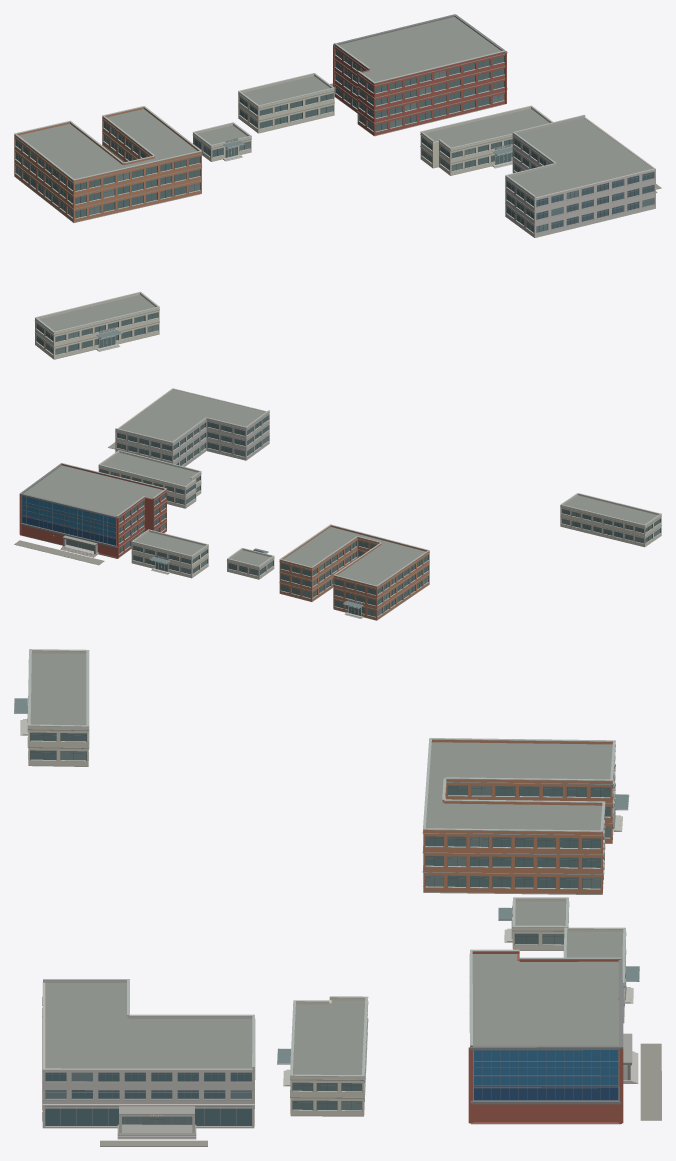
Rendered from south_service_buildings.glb.
3 renders of one model, top to bottom at view 1: azimuth 30°, elevation 25°; view 2: azimuth 150°, elevation 25°; view 3: azimuth 270°, elevation 25°, orthographic. The views are drawn at different scales.
Parts seen in each view (by area): view 1: south_service_buildings_FacultyRoof, south_service_buildings_WindowGlass, south_service_buildings_ServicePlaster, south_service_buildings_SolarLabBrick, south_service_buildings_PhotoCollegeRed, south_service_buildings_PhotoServiceStone, south_service_buildings_Teaching5TileJoint, south_service_buildings_FacultyDarkPanel, south_service_buildings_WindowAluminium, south_service_buildings_WindowReveal, south_service_buildings_WindowRubber, south_service_buildings_WindowGlassLight (+4 smaller); view 2: south_service_buildings_FacultyRoof, south_service_buildings_WindowGlass, south_service_buildings_ServicePlaster, south_service_buildings_SolarLabBrick, south_service_buildings_PhotoServiceStone, south_service_buildings_PhotoCollegeRed, south_service_buildings_Teaching5TileJoint, south_service_buildings_FacultyDarkPanel, south_service_buildings_PhotoCollegeGlass, south_service_buildings_WindowAluminium, south_service_buildings_WindowReveal, south_service_buildings_WindowRubber (+6 smaller); view 3: south_service_buildings_FacultyRoof, south_service_buildings_SolarLabBrick, south_service_buildings_PhotoServiceStone, south_service_buildings_WindowGlass, south_service_buildings_Teaching5TileJoint, south_service_buildings_PhotoCollegeGlass, south_service_buildings_PhotoLabDarkGlass, south_service_buildings_ServicePlaster, south_service_buildings_PhotoCollegeRed, south_service_buildings_PhotoLabSill, south_service_buildings_WindowGlassLight, south_service_buildings_PhotoLabAluminium (+8 smaller).
Part boxes in pixels (x1,y1,x2,y2): south_service_buildings_FacultyRoof: (19,16,652,331); south_service_buildings_WindowGlass: (16,49,549,351); south_service_buildings_ServicePlaster: (35,74,550,358); south_service_buildings_SolarLabBrick: (14,107,201,222); south_service_buildings_PhotoCollegeRed: (333,44,506,135); south_service_buildings_PhotoServiceStone: (505,116,657,237); south_service_buildings_Teaching5TileJoint: (14,43,584,332); south_service_buildings_FacultyDarkPanel: (14,46,551,347); south_service_buildings_WindowAluminium: (15,54,543,355); south_service_buildings_WindowReveal: (15,48,548,352); south_service_buildings_WindowRubber: (16,50,548,351); south_service_buildings_WindowGlassLight: (16,70,533,354); south_service_buildings_FacultyRoof: (24,389,657,585); south_service_buildings_WindowGlass: (100,415,660,615); south_service_buildings_ServicePlaster: (98,451,661,578); south_service_buildings_SolarLabBrick: (279,525,429,620); south_service_buildings_PhotoServiceStone: (60,388,269,557); south_service_buildings_PhotoCollegeRed: (19,464,166,558); south_service_buildings_Teaching5TileJoint: (61,410,661,586); south_service_buildings_FacultyDarkPanel: (98,412,661,609); south_service_buildings_PhotoCollegeGlass: (22,496,115,538); south_service_buildings_WindowAluminium: (116,420,660,617); south_service_buildings_WindowReveal: (99,415,661,616); south_service_buildings_WindowRubber: (100,416,660,615); south_service_buildings_FacultyRoof: (30,653,623,1074); south_service_buildings_SolarLabBrick: (423,739,615,894); south_service_buildings_PhotoServiceStone: (42,980,638,1132); south_service_buildings_WindowGlass: (30,732,610,1109); south_service_buildings_Teaching5TileJoint: (27,649,625,1076); south_service_buildings_PhotoCollegeGlass: (474,1050,618,1087); south_service_buildings_PhotoLabDarkGlass: (45,1072,251,1125); south_service_buildings_ServicePlaster: (28,651,624,1115); south_service_buildings_PhotoCollegeRed: (468,951,623,1123); south_service_buildings_PhotoLabSill: (42,996,632,1139); south_service_buildings_WindowGlassLight: (14,698,639,1110); south_service_buildings_PhotoLabAluminium: (45,1050,618,1124).
Bounding box in the file's own units: 178 × 14.43 × 107.
